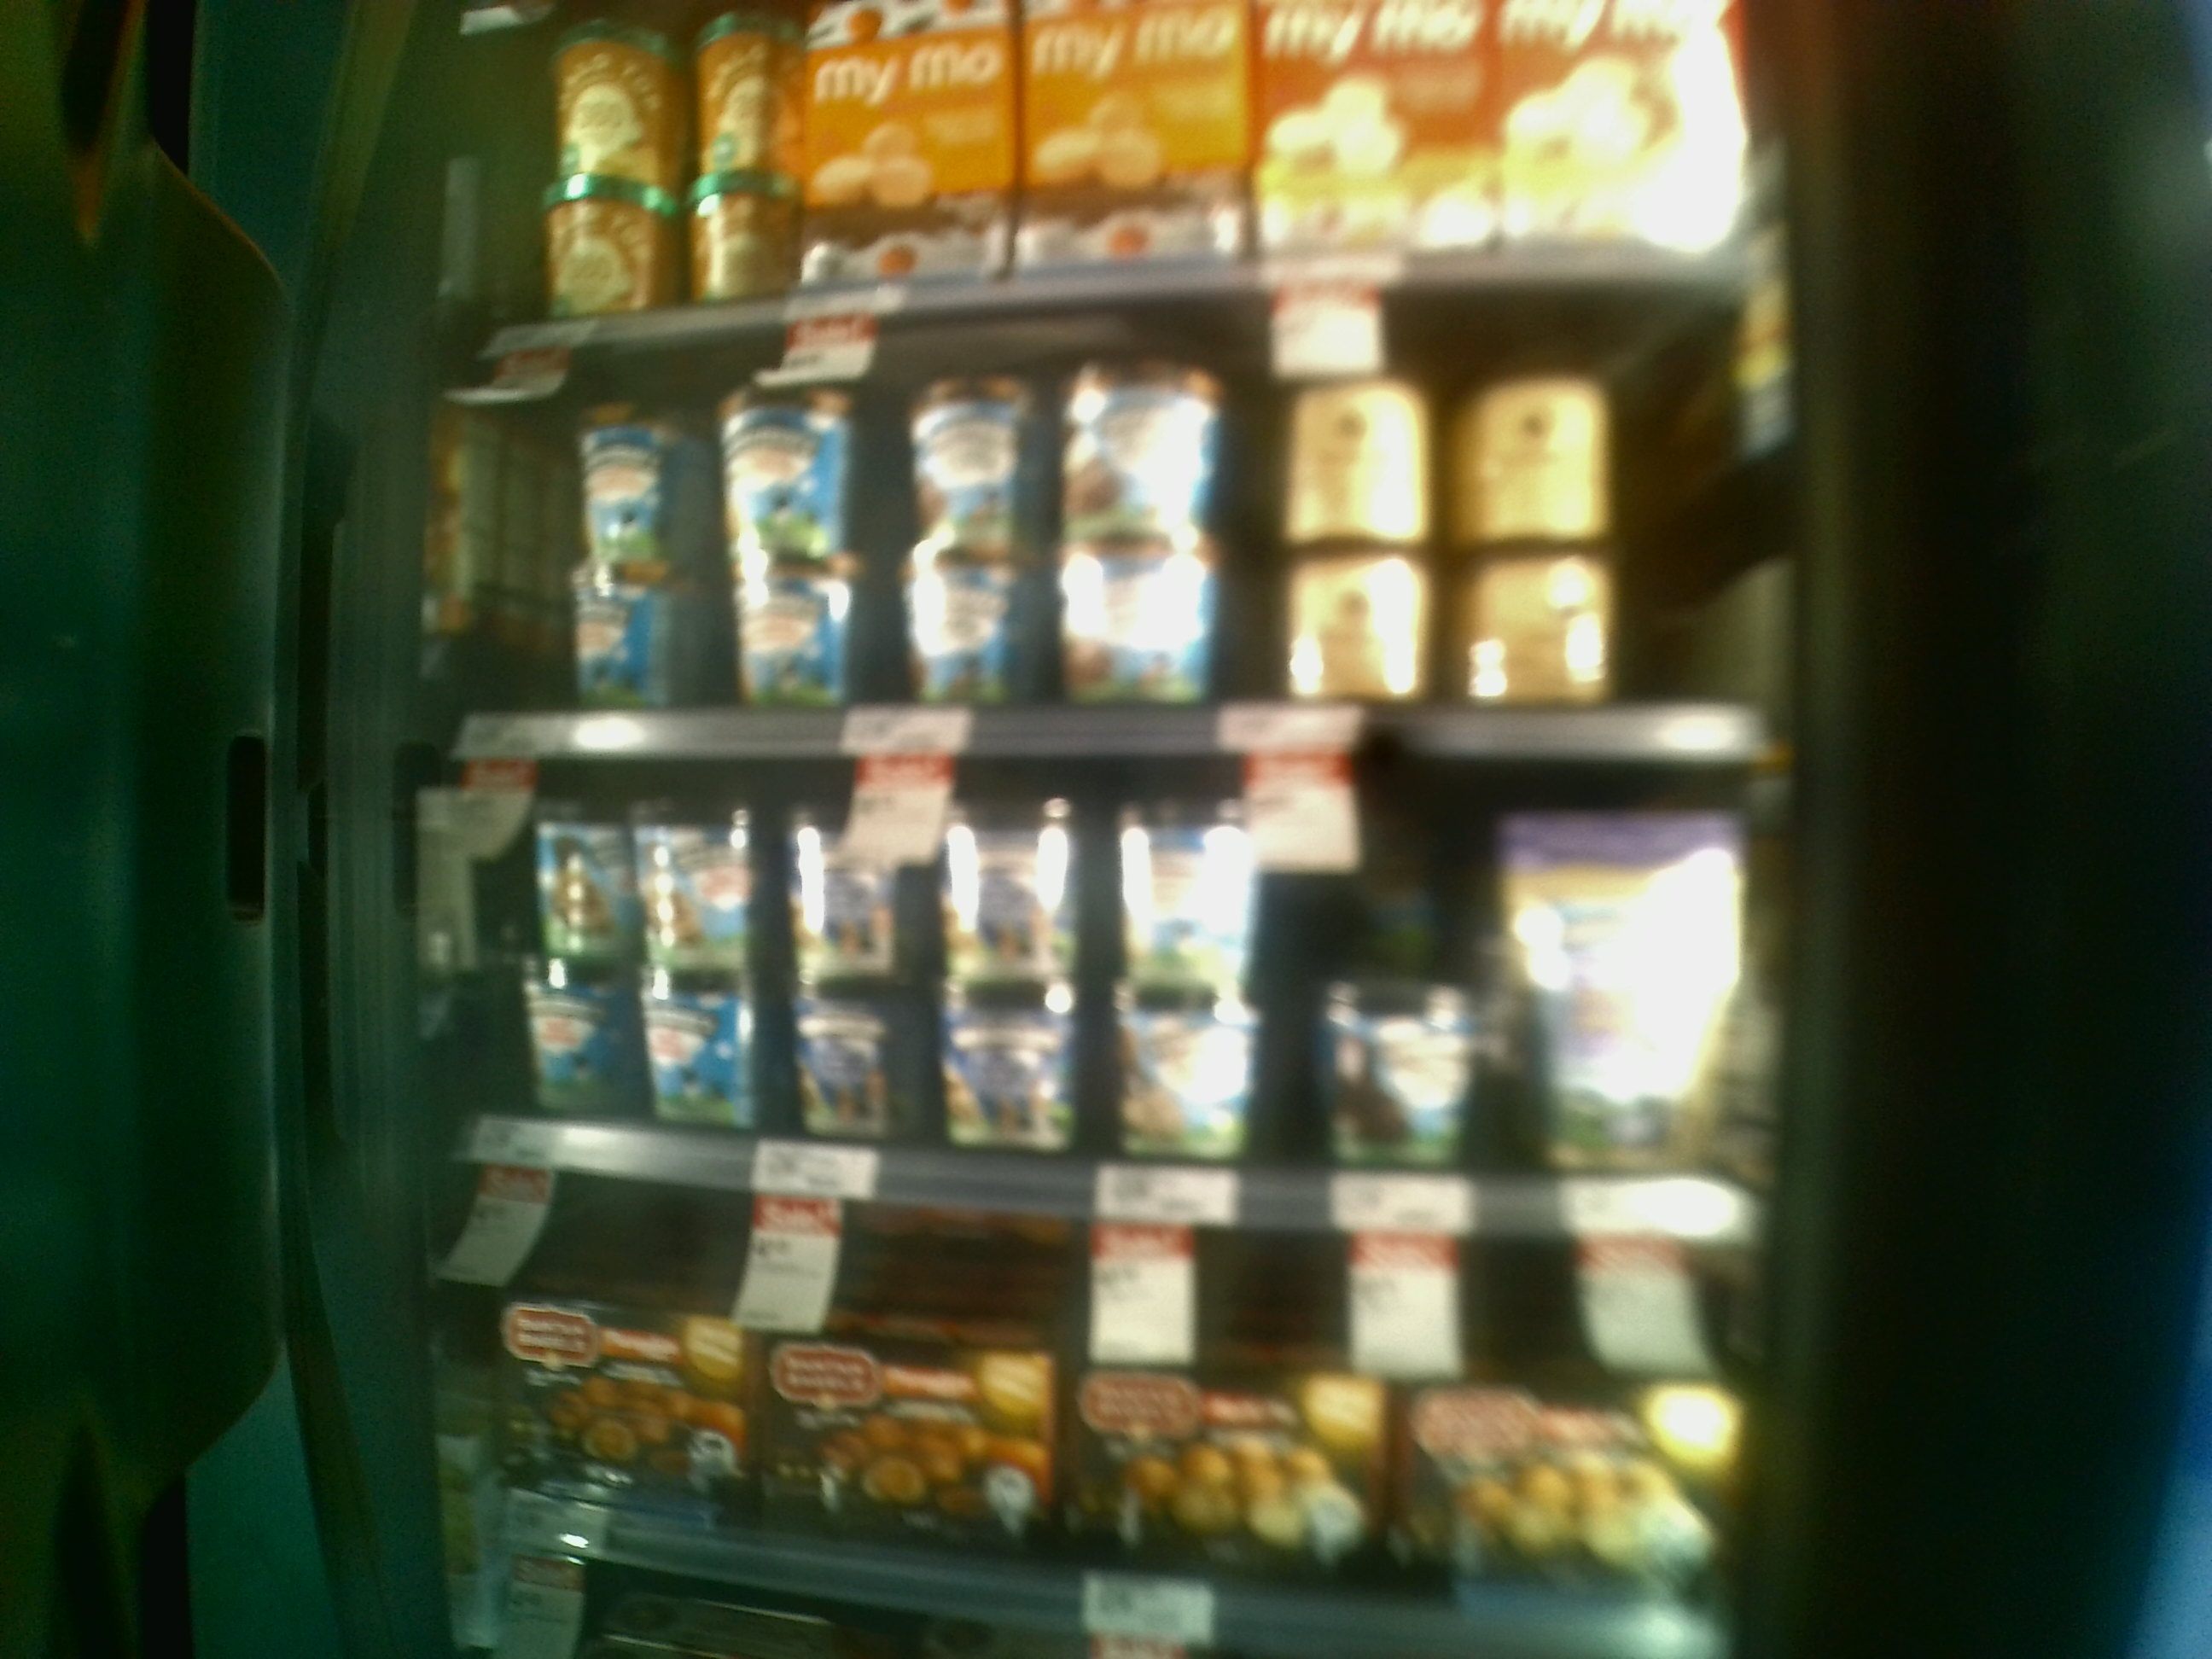shelf: (427, 741, 1775, 1244), (444, 333, 1759, 763)
